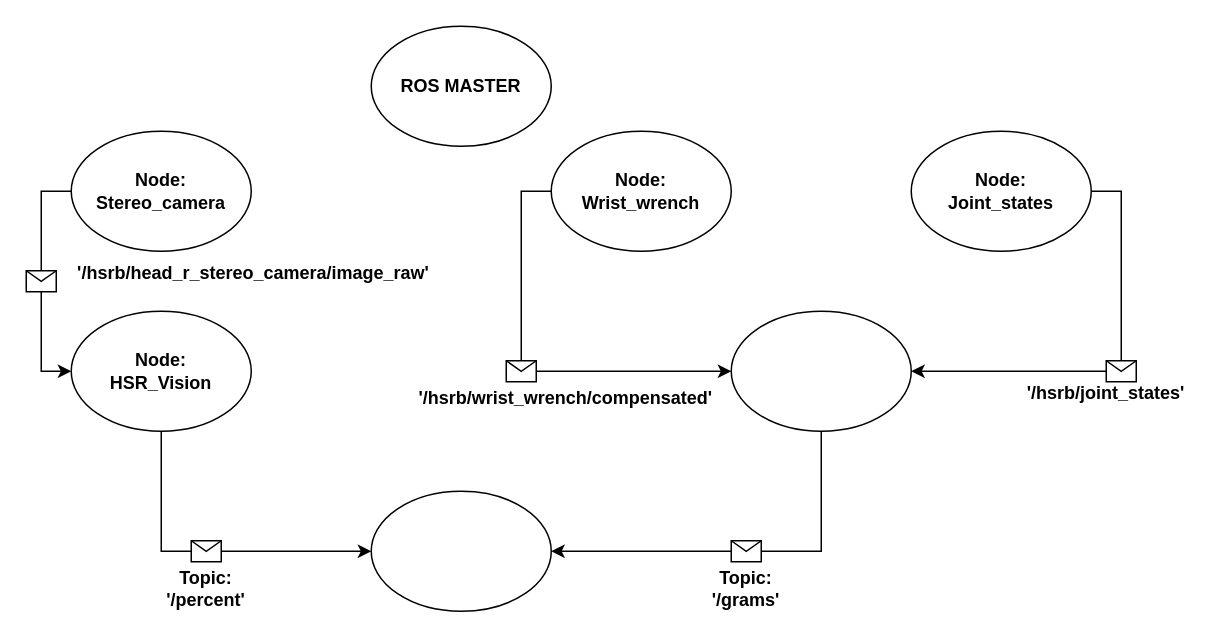
This 1211x638 diagram has some shape labels left out. The shapes that lost their labels are listed below. From the top down, each one's box as (x1, y1, x2, y2) in pixels, then its label:
(730, 310, 911, 431): Node: HSR_Force
(370, 490, 551, 611): Node: HSR_Controller
